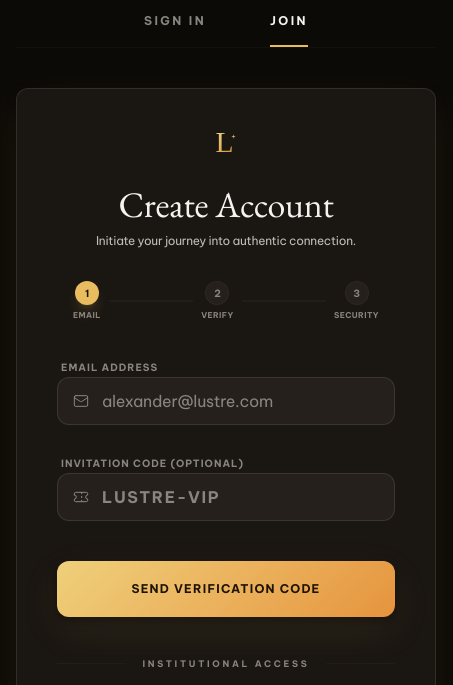
Test: Register Page UI › shows error message if OTP send fails
Type "error@lustre.com" into the field with placeholder "alexander@lustre.com" at (226, 401), box [57,377,395,425]
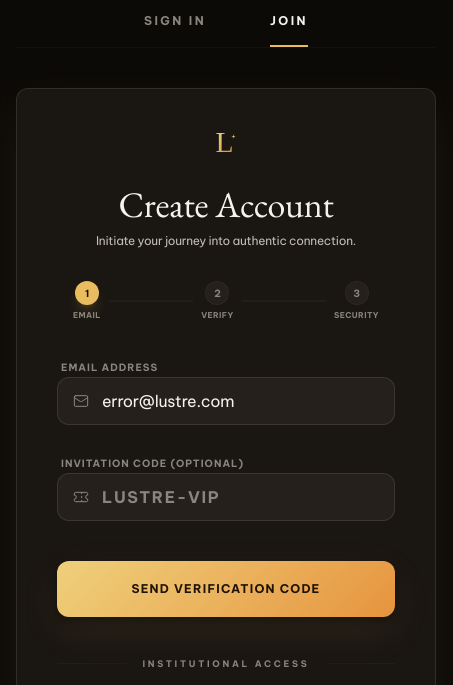
Submit the form with placeholder "alexander@lustre.com", box [57,353,395,617]
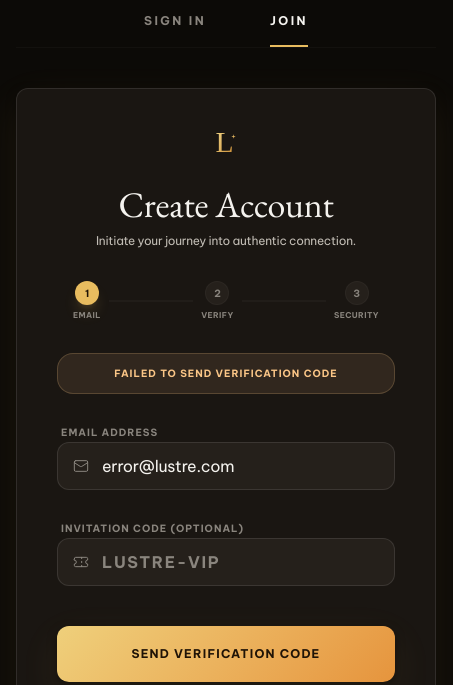
Now the text "Failed to send verification code" is shown, box [57,353,395,394]
